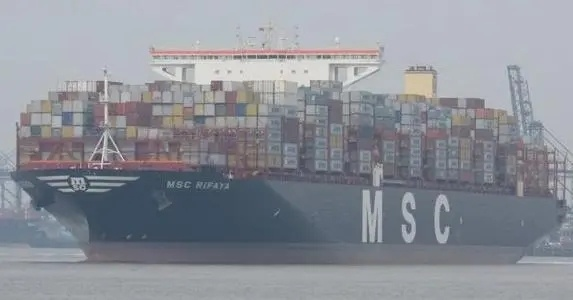Cargoship: (5, 25, 570, 264)
